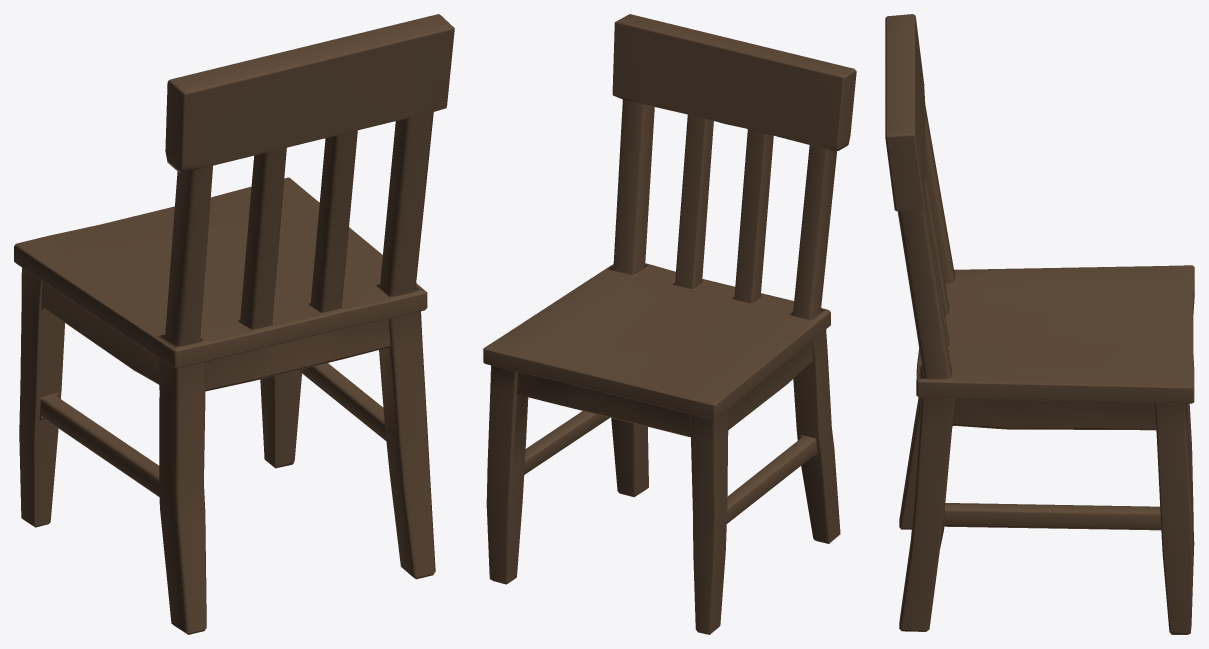
File: academy_side_chair.glb
The picture shows the model from 3 angles, left to right: view 1: azimuth 30°, elevation 25°; view 2: azimuth 150°, elevation 25°; view 3: azimuth 270°, elevation 25°; orthographic projection. The views are drawn at different scales.
Parts seen in each view (by area): view 1: AcademySideChair_Root; view 2: AcademySideChair_Root; view 3: AcademySideChair_Root.
Boxes of the visible parts, <box> form: AcademySideChair_Root: <box>14,14,454,634</box>; AcademySideChair_Root: <box>483,14,856,634</box>; AcademySideChair_Root: <box>885,14,1194,634</box>.
Bounding box in the file's own units: 0.46 × 0.88 × 0.49.
